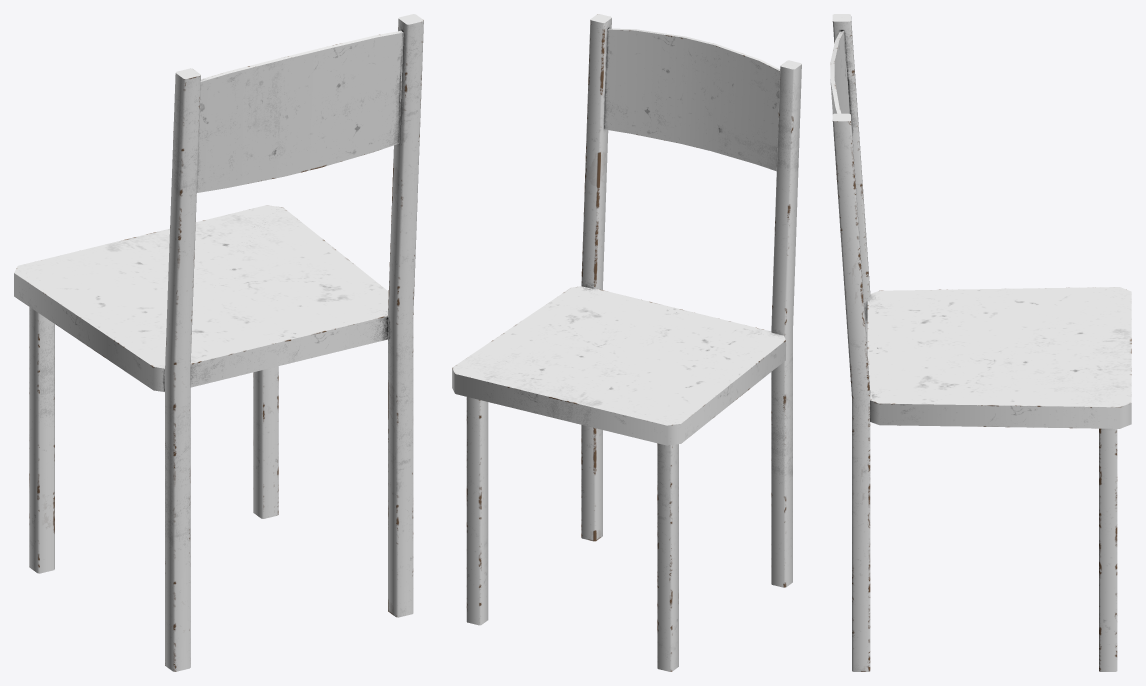
The model's file is Chairwhite_AA.fbx.
3 views of the same model, side by side, from view 1: azimuth 30°, elevation 25°; view 2: azimuth 150°, elevation 25°; view 3: azimuth 270°, elevation 25° (orthographic). The views are drawn at different scales.
Visible parts, largest first — view 1: Chairwhite_AA; view 2: Chairwhite_AA; view 3: Chairwhite_AA.
Part boxes in pixels (bbox=[...]): Chairwhite_AA: bbox=[14, 14, 423, 671]; Chairwhite_AA: bbox=[452, 14, 801, 671]; Chairwhite_AA: bbox=[830, 14, 1131, 671].
Size of the model in its own units: 0.4167 by 0.4408 by 0.8888.
1 material, 1 textured.
